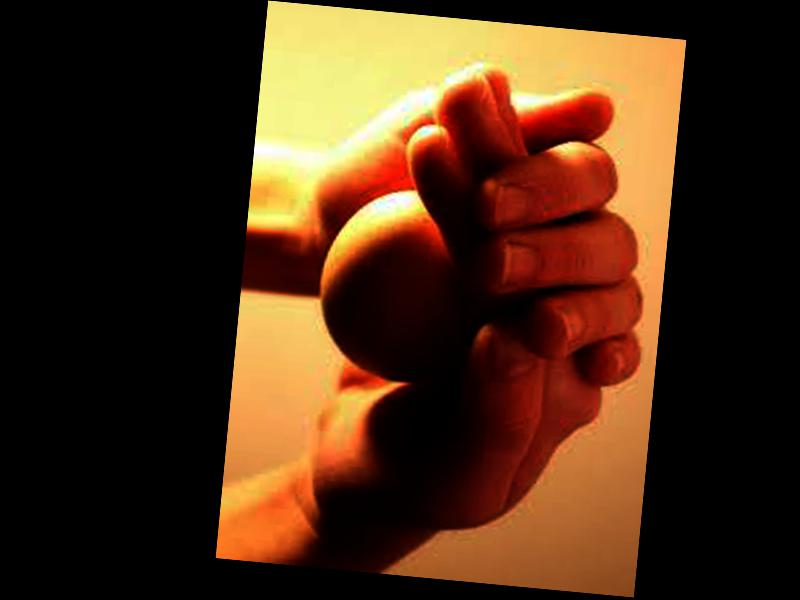Eggs: (311, 182, 476, 388)
